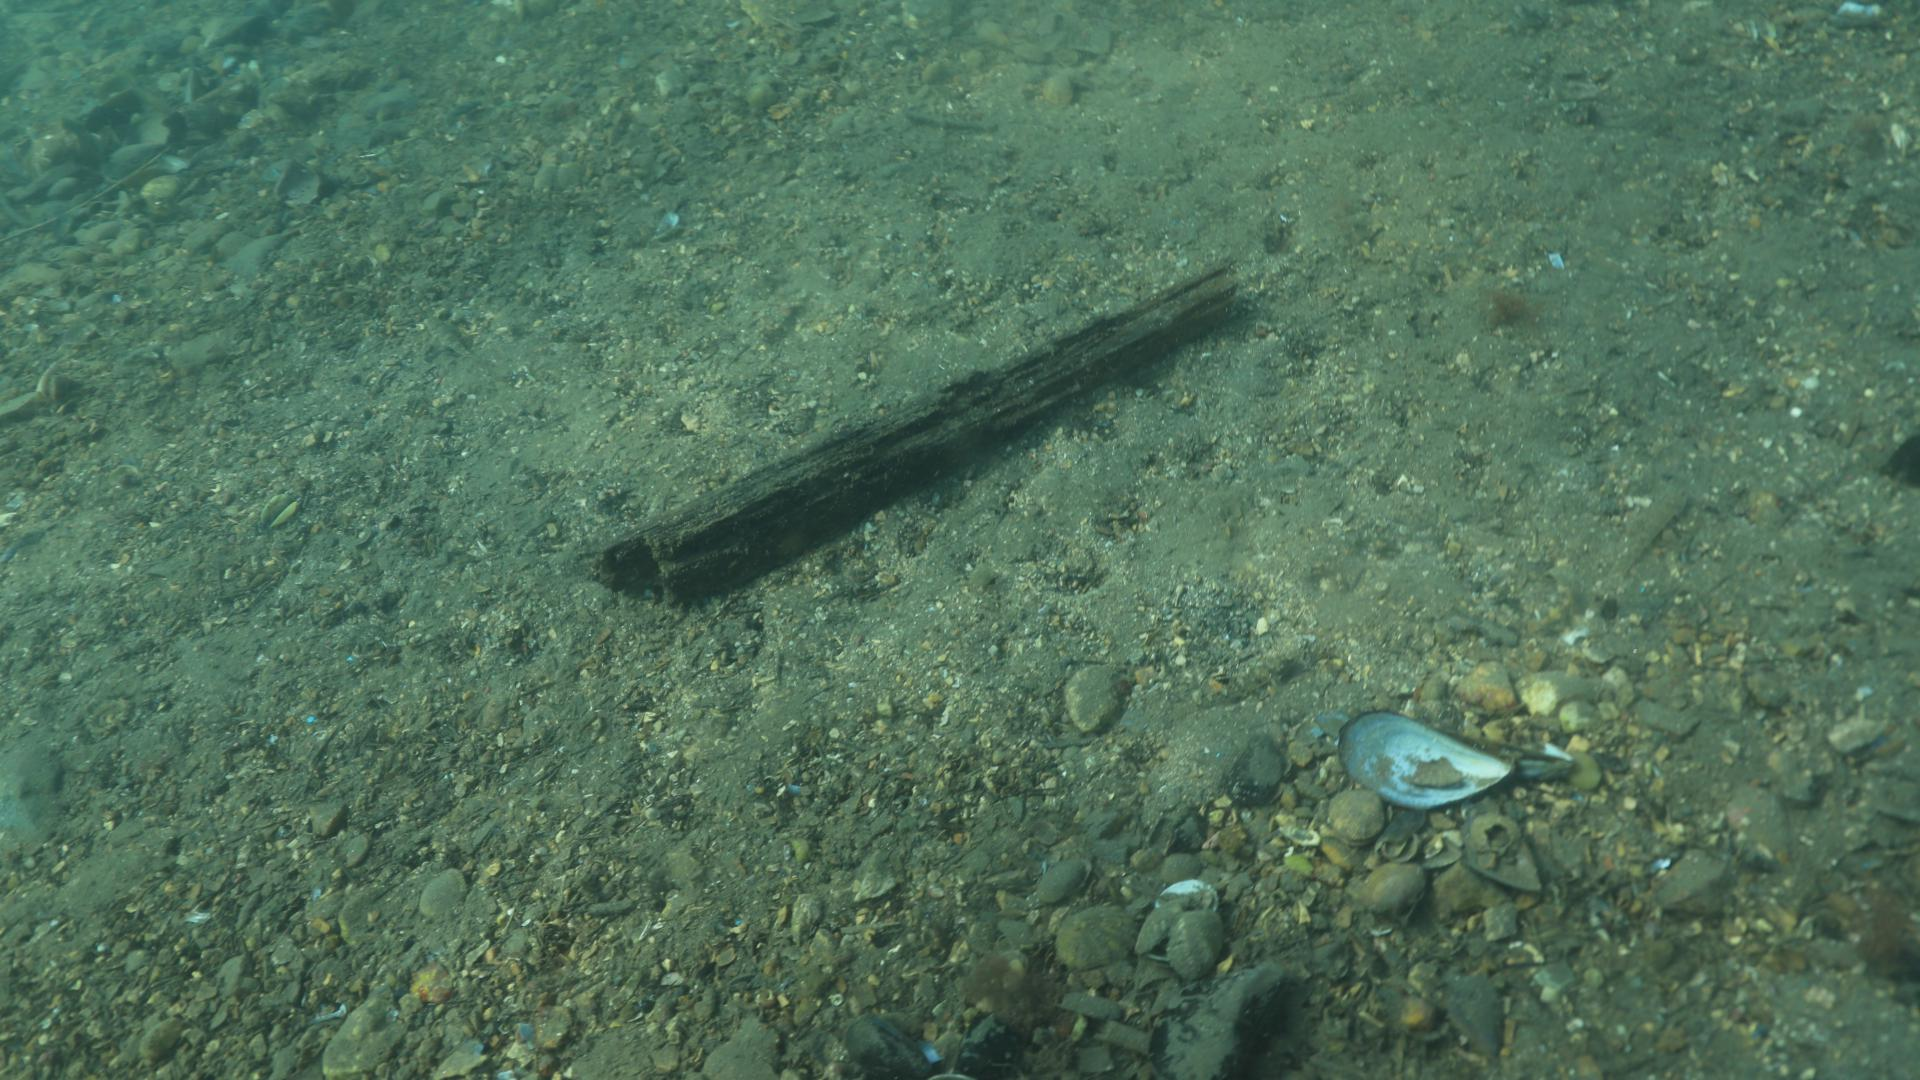wood: (596, 261, 1242, 603)
